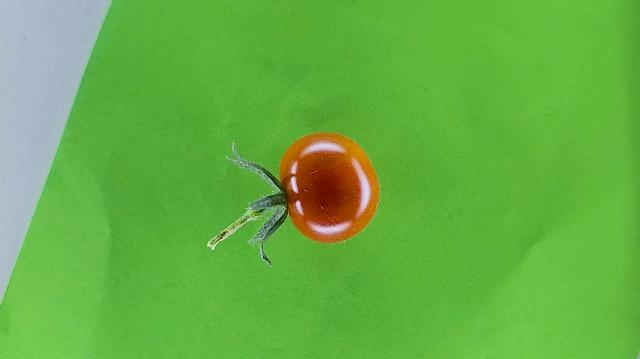Fully Grown: (278, 133, 381, 244)
